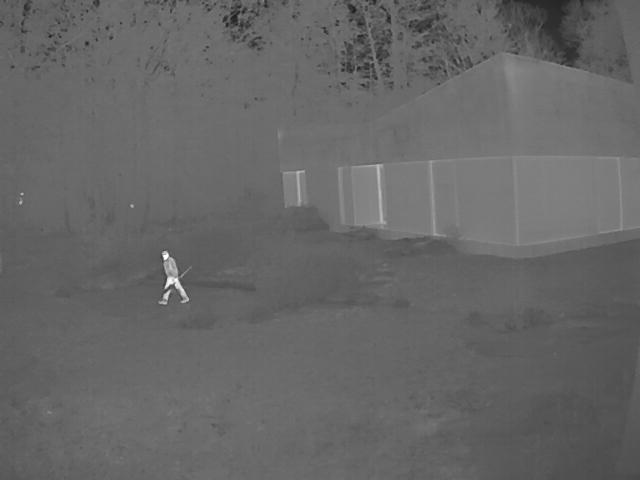person: (159, 249, 192, 305)
